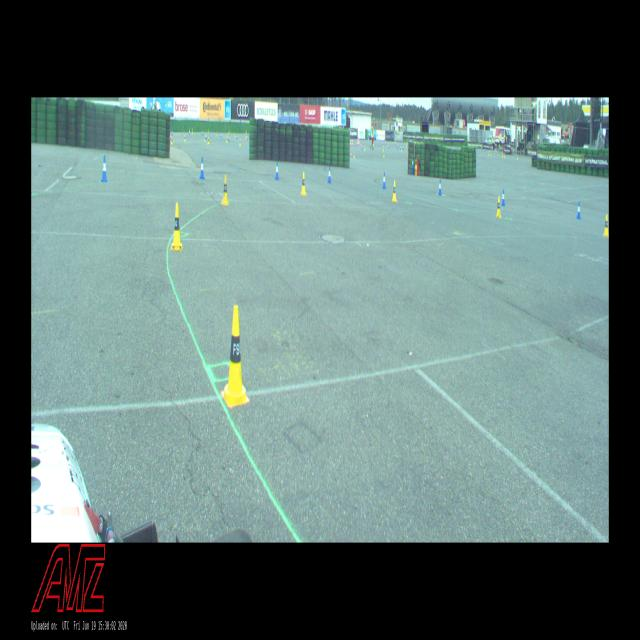blue_cone: (100, 155, 108, 182), (199, 156, 205, 180), (275, 162, 279, 180), (502, 189, 506, 206), (576, 202, 580, 218), (382, 172, 386, 188), (438, 180, 442, 196), (328, 167, 331, 183), (412, 159, 414, 167)
yellow_cone: (221, 306, 249, 406), (170, 203, 182, 251), (221, 174, 229, 204), (300, 172, 306, 195), (603, 214, 609, 236), (496, 196, 501, 218), (392, 181, 397, 201), (414, 159, 416, 167), (208, 137, 209, 144)
